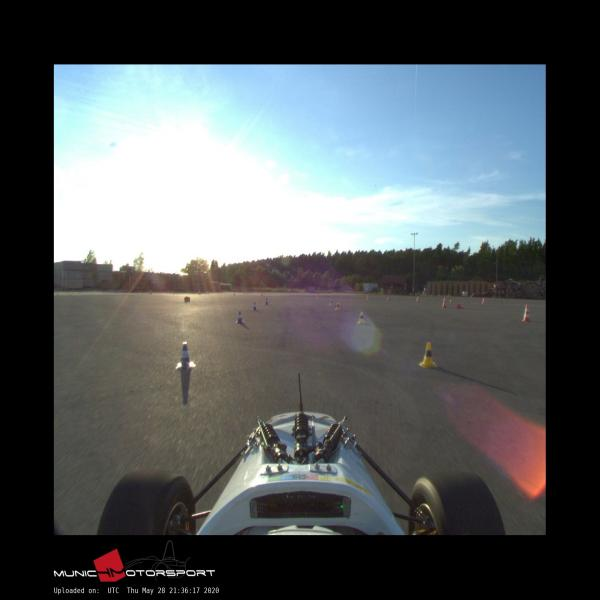blue_cone: (176, 342, 196, 371), (236, 311, 244, 324), (252, 302, 257, 310), (264, 298, 268, 305)
large_orange_cone: (522, 304, 530, 322), (442, 298, 447, 308)
yellow_cone: (418, 342, 438, 368), (357, 311, 366, 324), (335, 302, 341, 310)
